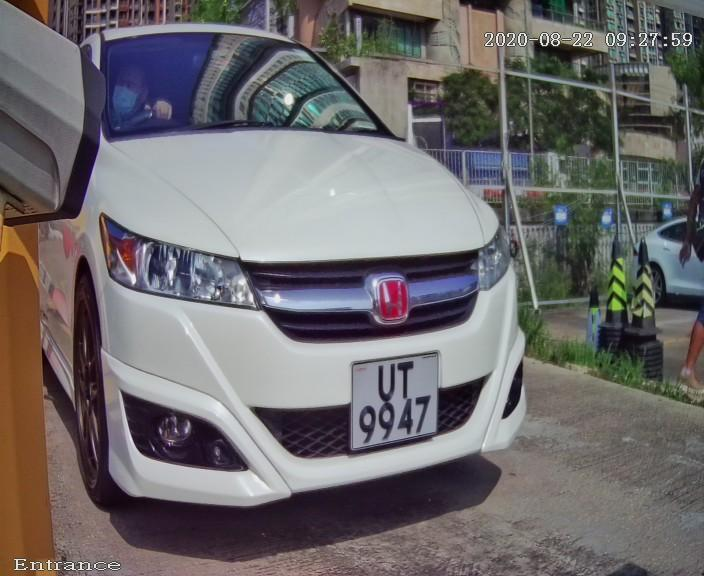Car: (32, 1, 579, 551)
License Plate: (340, 341, 444, 456)
